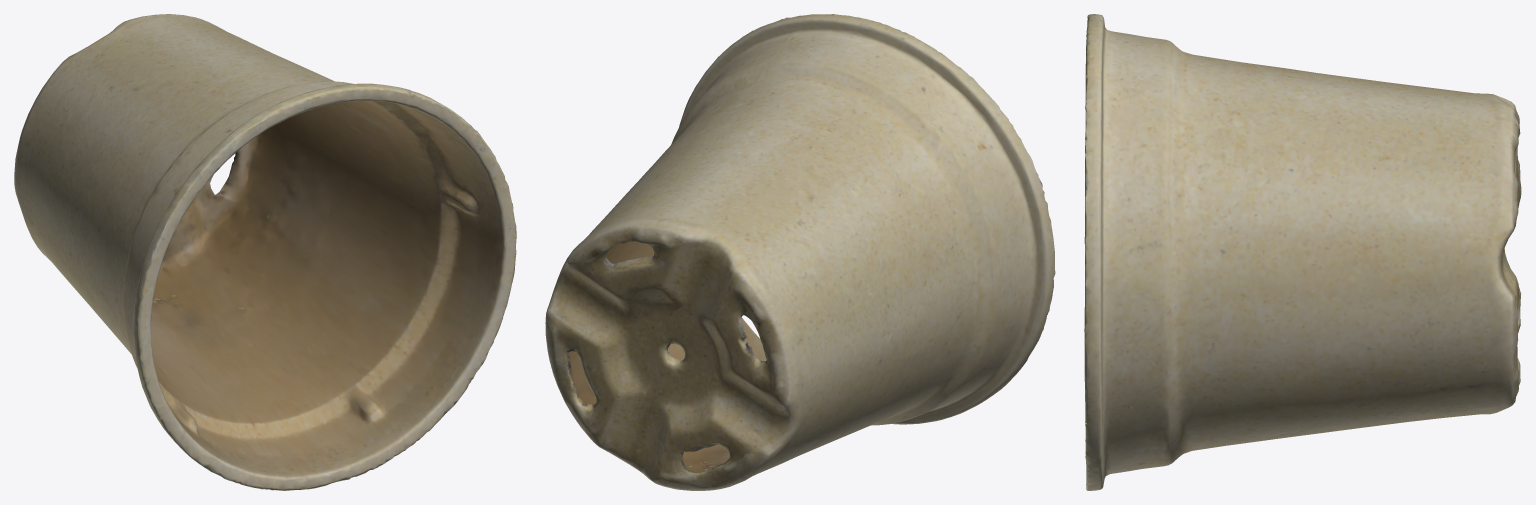
3 renders of one model, left to right at view 1: azimuth 30°, elevation 25°; view 2: azimuth 150°, elevation 25°; view 3: azimuth 270°, elevation 25°, orthographic. The views are drawn at different scales.
Size of the model in its own units: 0.0941 by 0.0942 by 0.0864.
